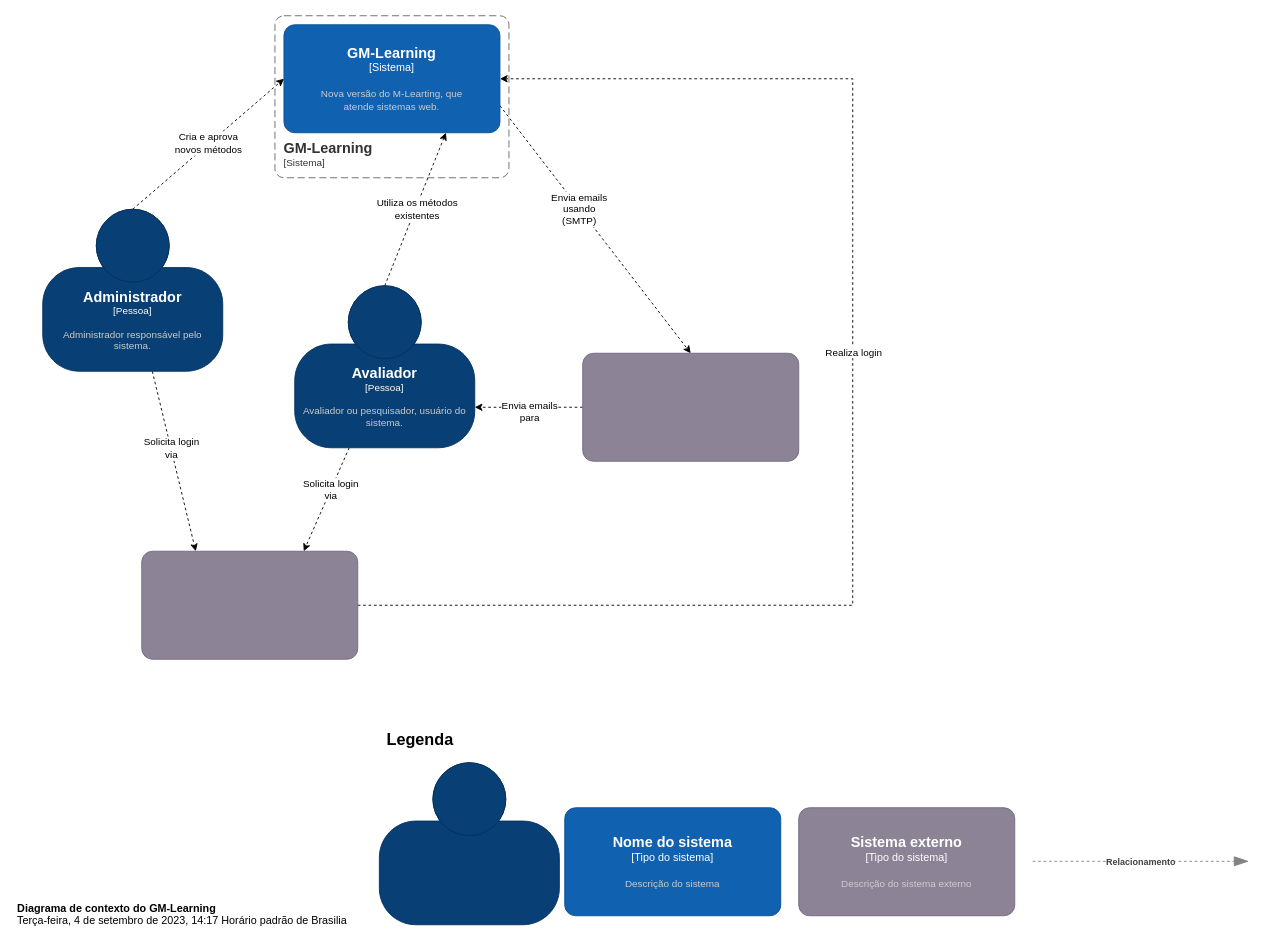
Some shapes in this 1279 by 948 pixel diagram are drawn without their labels. Each missing label, with the box of its shape:
Google API [API] Realizar autenticação de usuários via Gmail: (141, 550, 358, 659)
MailChimp [Sistema] Sistema para envio de emails da MailChimp: (582, 352, 799, 461)
Nome da pessoa [Pessoa] Descrição da pessoa: (378, 762, 559, 925)
